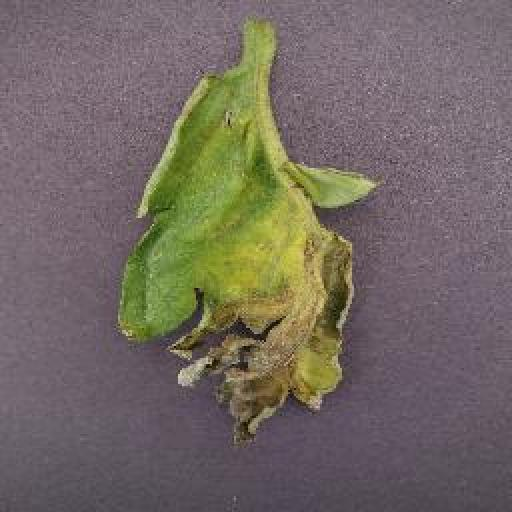disease_tomato: (114, 62, 382, 446)
